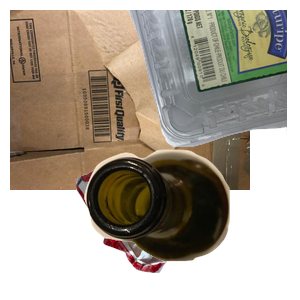cardboard: (10, 10, 250, 190)
glass: (82, 147, 300, 300)
plastic: (60, 10, 300, 149)
trash: (74, 167, 235, 300)
